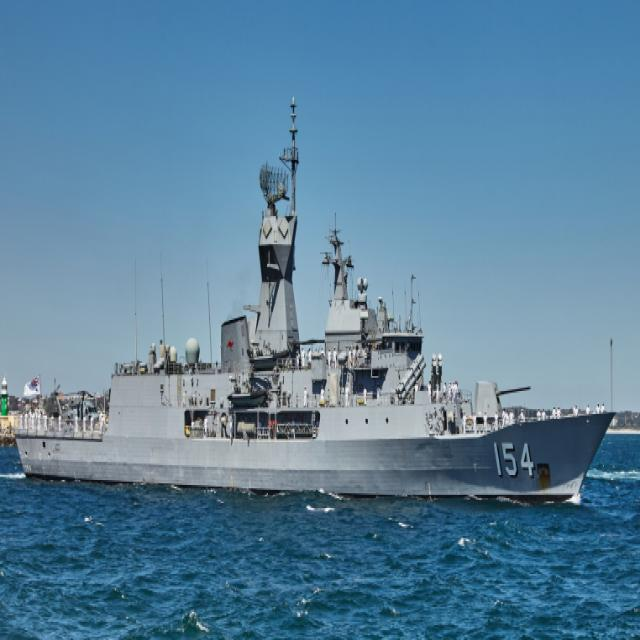Fragata: (16, 92, 618, 511)
